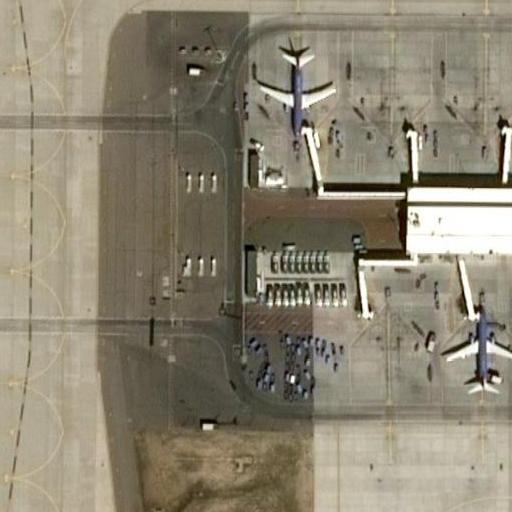Aircraft: (250, 39, 340, 142), (436, 313, 512, 399)
